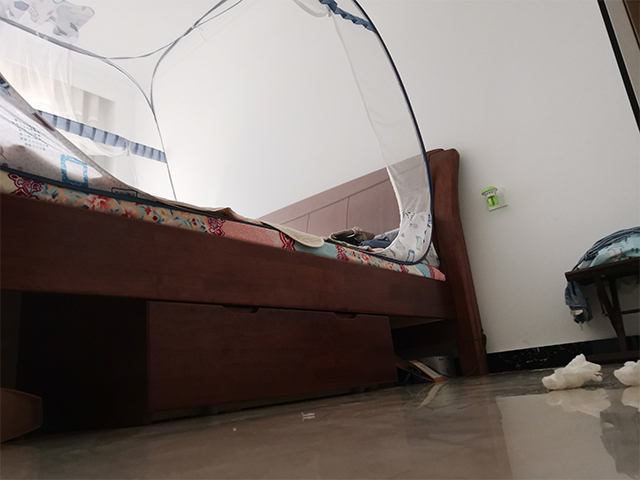bed: (1, 145, 490, 446)
stool: (562, 254, 640, 366)
